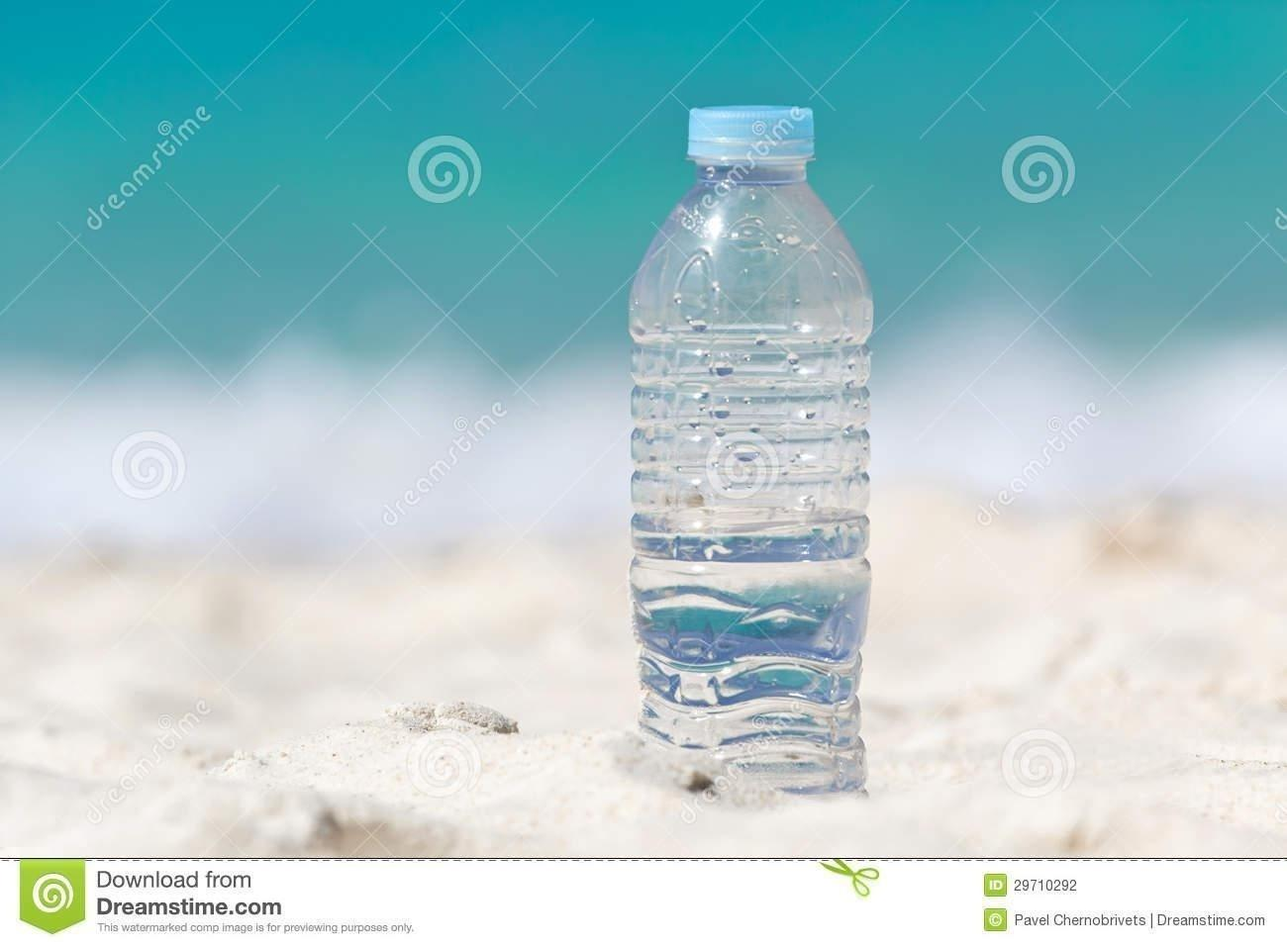bottle-plastic: (619, 104, 885, 803)
